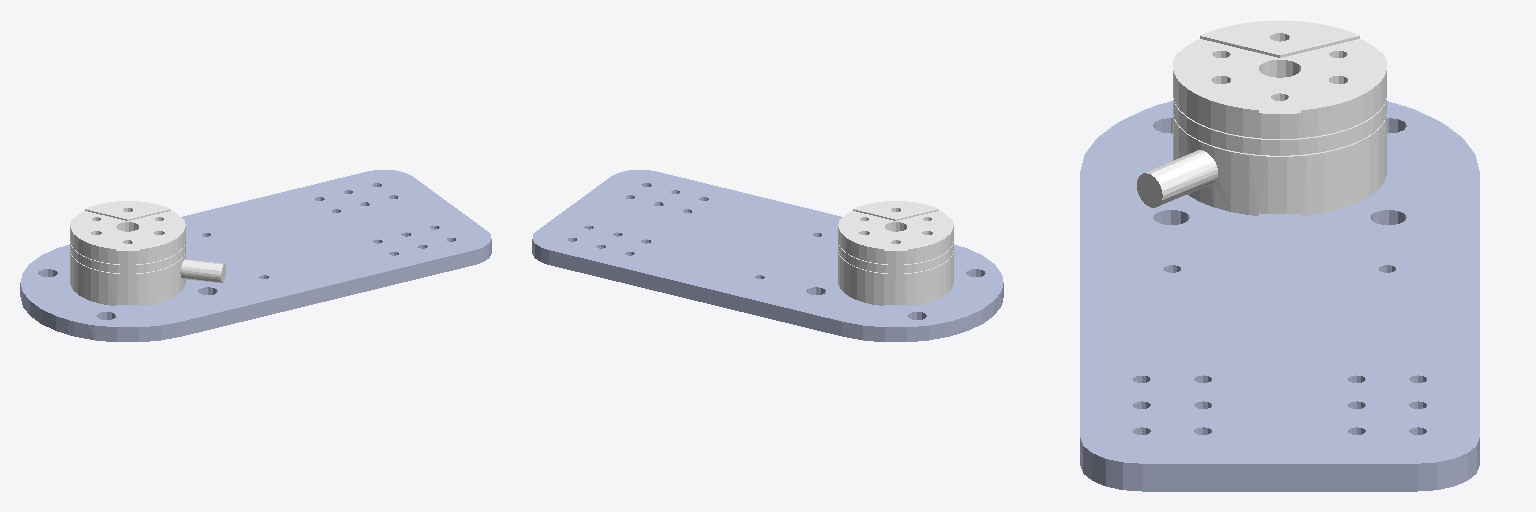
URDF robot description (URDF_0326):
<?xml version="1.0" encoding="utf-8"?>
<!-- This URDF was automatically created by SolidWorks to URDF Exporter! Originally created by Stephen Brawner (brawner@gmail.com) 
     Commit Version: 1.6.0-4-g7f85cfe  Build Version: 1.6.7995.38578
     For more information, please see http://wiki.ros.org/sw_urdf_exporter -->
<robot
  name="URDF_0326">
  <link
    name="plane_base_link">
    <inertial>
      <origin
        xyz="0.0436659010788283 6.66133814775094E-16 0.00249999999999997"
        rpy="0 0 0" />
      <mass
        value="0.0430021841027823" />
      <inertia
        ixx="1.46014477268871E-05"
        ixy="-1.00441939548728E-18"
        ixz="-2.84514753680953E-21"
        iyy="6.81701565871757E-05"
        iyz="2.58580855125192E-22"
        izz="8.25924285469678E-05" />
    </inertial>
    <visual>
      <origin
        xyz="0 0 0"
        rpy="0 0 0" />
      <geometry>
        <mesh
          filename="package://URDF_0326/meshes/plane_base_link.STL" />
      </geometry>
      <material
        name="">
        <color
          rgba="0.792156862745098 0.819607843137255 0.933333333333333 1" />
      </material>
    </visual>
    <collision>
      <origin
        xyz="0 0 0"
        rpy="0 0 0" />
      <geometry>
        <mesh
          filename="package://URDF_0326/meshes/plane_base_link.STL" />
      </geometry>
    </collision>
  </link>
  <link
    name="3d_camera_Link">
    <inertial>
      <origin
        xyz="2.4746E-06 -0.00052618 0.011543"
        rpy="0 0 0" />
      <mass
        value="0.037509" />
      <inertia
        ixx="2.1913E-05"
        ixy="8.0311E-09"
        ixz="-1.3016E-08"
        iyy="2.0977E-06"
        iyz="-4.5109E-08"
        izz="2.3215E-05" />
    </inertial>
    <visual>
      <origin
        xyz="0 0 0"
        rpy="0 0 0" />
      <geometry>
        <mesh
          filename="package://URDF_0326/meshes/3d_camera_Link.STL" />
      </geometry>
      <material
        name="">
        <color
          rgba="0.79216 0.81961 0.93333 1" />
      </material>
    </visual>
    <collision>
      <origin
        xyz="0 0 0"
        rpy="0 0 0" />
      <geometry>
        <mesh
          filename="package://URDF_0326/meshes/3d_camera_Link.STL" />
      </geometry>
    </collision>
  </link>
  <joint
    name="3d_camera_joint"
    type="fixed">
    <origin
      xyz="0.1 -0.0011863 0.005"
      rpy="0 0 0" />
    <parent
      link="plane_base_link" />
    <child
      link="3d_camera_Link" />
    <axis
      xyz="0 0 0" />
  </joint>
  <link
    name="force_sensor_Link">
    <inertial>
      <origin
        xyz="0 0 0"
        rpy="0 0 0" />
      <mass
        value="0" />
      <inertia
        ixx="0"
        ixy="0"
        ixz="0"
        iyy="0"
        iyz="0"
        izz="0" />
    </inertial>
    <visual>
      <origin
        xyz="0 0 0"
        rpy="0 0 0" />
      <geometry>
        <mesh
          filename="package://URDF_0326/meshes/force_sensor_Link.STL" />
      </geometry>
      <material
        name="">
        <color
          rgba="1 1 1 1" />
      </material>
    </visual>
    <collision>
      <origin
        xyz="0 0 0"
        rpy="0 0 0" />
      <geometry>
        <mesh
          filename="package://URDF_0326/meshes/force_sensor_Link.STL" />
      </geometry>
    </collision>
  </link>
  <joint
    name="force_sensor_joint"
    type="fixed">
    <origin
      xyz="0 0 0.0145"
      rpy="0 0 -3.1416" />
    <parent
      link="plane_base_link" />
    <child
      link="force_sensor_Link" />
    <axis
      xyz="0 0 0" />
  </joint>
</robot>

--- What the picture shows (computed from the rendered views, not written in the file) ---
Views: 3 orthographic renders of the robot side by side, from view 1: azimuth 30°, elevation 25°; view 2: azimuth 150°, elevation 25°; view 3: azimuth 270°, elevation 25°.
Robot: URDF_0326 — 3 links, 2 joints (2 fixed); root link plane_base_link; default pose: all joints at 0.
Visible links, largest first — view 1: plane_base_link, force_sensor_Link; view 2: plane_base_link, force_sensor_Link; view 3: plane_base_link, force_sensor_Link.
Boxes of the visible links, left/top/right/bottom form: plane_base_link: left=20, top=170, right=491, bottom=341; force_sensor_Link: left=70, top=201, right=225, bottom=305; plane_base_link: left=532, top=170, right=1003, bottom=341; force_sensor_Link: left=838, top=201, right=953, bottom=305; plane_base_link: left=1080, top=101, right=1479, bottom=491; force_sensor_Link: left=1137, top=20, right=1386, bottom=215.
Bounding box of the posed robot: 0.1448 × 0.065 × 0.024 m (x, y, z).
Meshes: 3 distinct files referenced, 2 mesh visuals loaded (2 binary STL); not drawn: 1 (reference not matched to a file when rendering).
